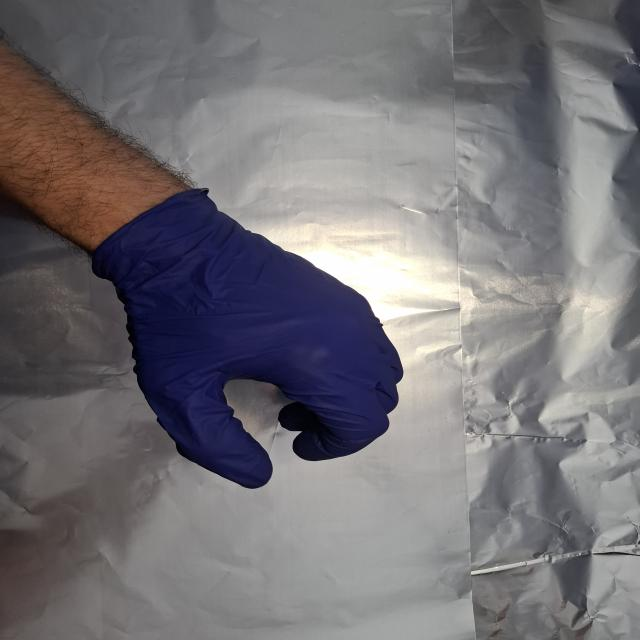glove_on: (94, 186, 408, 492)
